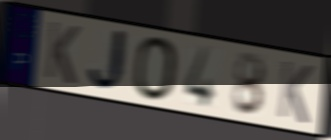4: (183, 43, 219, 111)
8: (231, 51, 266, 117)
J: (87, 28, 133, 94)
K: (43, 18, 82, 88), (276, 58, 315, 127)
O: (134, 35, 180, 104)
